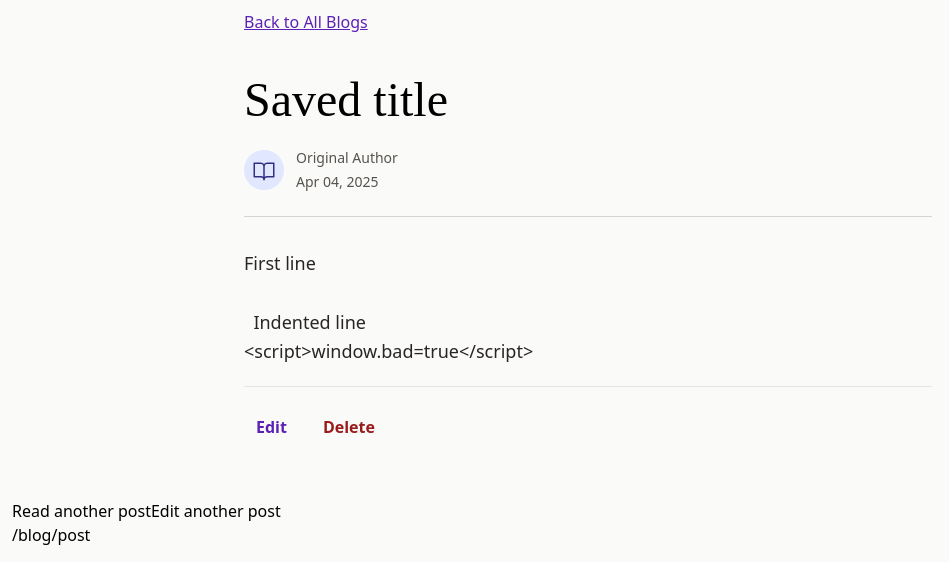
Test: same-page route ID refresh › re-reads the reader snapshot for a newly stored route ID without writes
The image size is (949, 562).
Expected: the heading reads "Saved title", [244, 73, 448, 126]
Step 1. Click the link "Read another post" → (81, 511), box [12, 500, 151, 522]
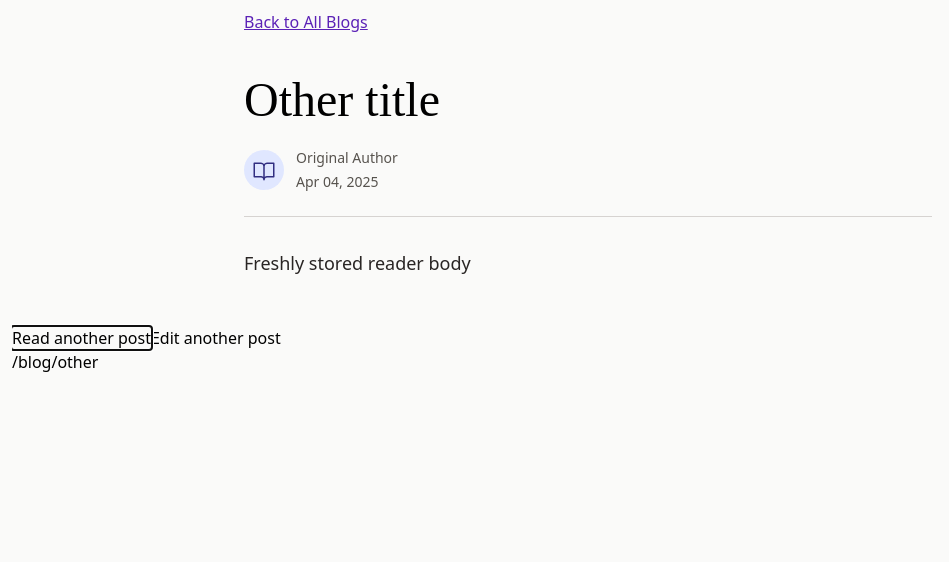
Result: the text with test id "location" reads "/blog/other" at [12, 351, 98, 373]
Result: the heading reads "Other title" at [244, 73, 440, 126]
Result: the text "Freshly stored reader body" is shown at [244, 251, 471, 275]
